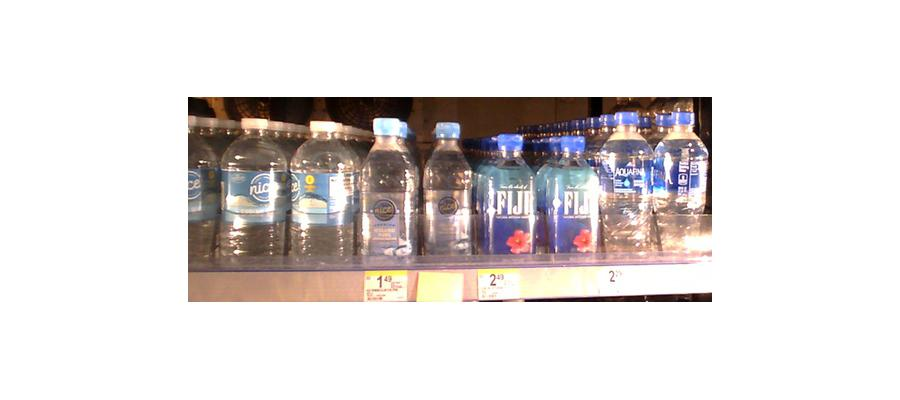bottle: (289, 115, 358, 264), (220, 114, 286, 263), (357, 113, 416, 268), (597, 109, 657, 257), (478, 132, 538, 261), (420, 121, 475, 260), (539, 133, 599, 260), (661, 99, 707, 242)
